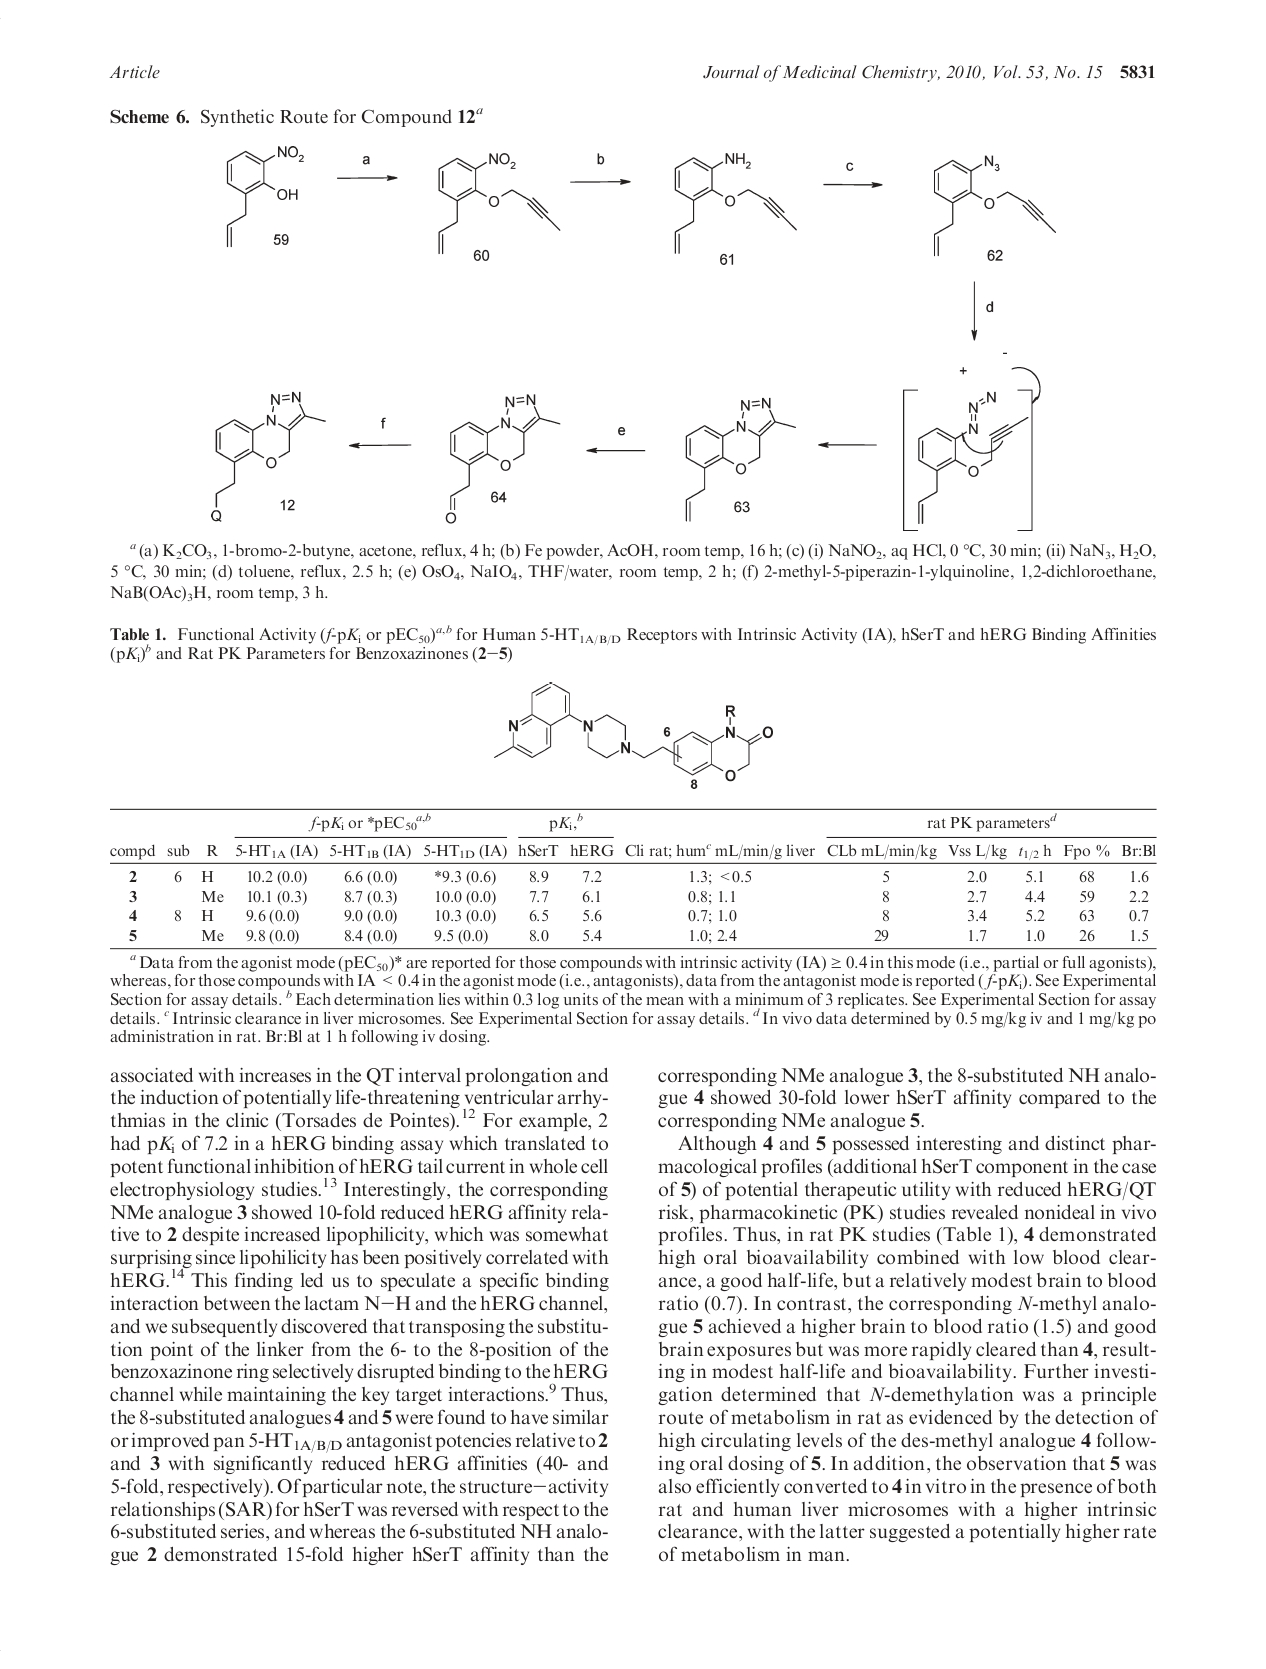exist_molecular: (489, 676, 778, 791), (427, 386, 564, 527), (203, 384, 330, 525), (910, 390, 1031, 531), (678, 390, 801, 527), (660, 146, 801, 257), (431, 146, 563, 258), (926, 152, 1059, 262), (218, 140, 309, 251)
